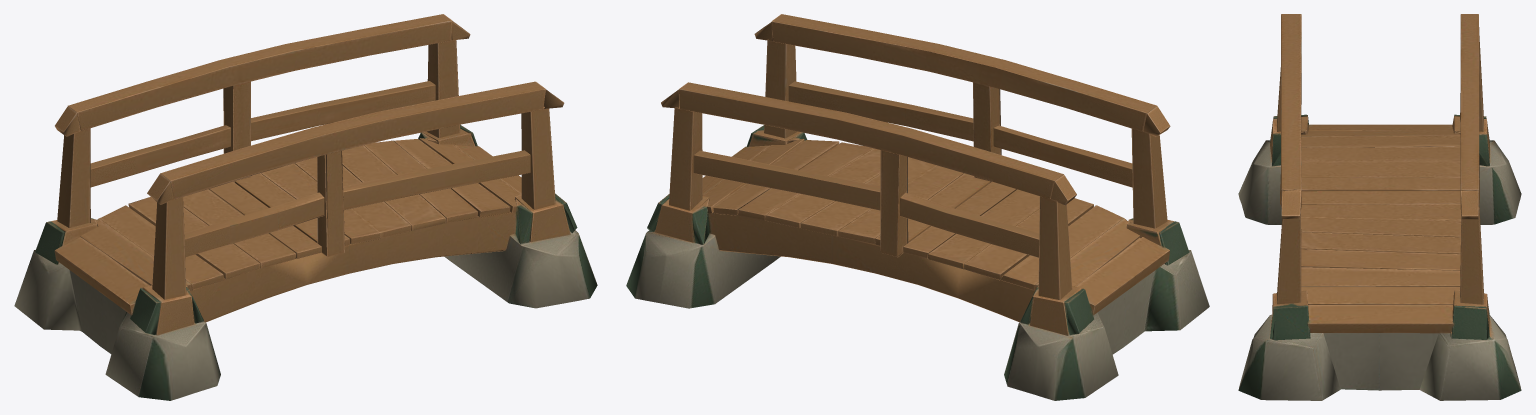
File: AW-VAR-PROP-003-v0.2.glb
3 views of the same model, side by side, from view 1: azimuth 30°, elevation 25°; view 2: azimuth 150°, elevation 25°; view 3: azimuth 270°, elevation 25° (orthographic). The views are drawn at different scales.
Visible parts, largest first — view 1: AW-VAR-PROP-003_meter_ground_pivot; view 2: AW-VAR-PROP-003_meter_ground_pivot; view 3: AW-VAR-PROP-003_meter_ground_pivot.
Boxes of the visible parts, x1,y1,x2,y2 form: AW-VAR-PROP-003_meter_ground_pivot: (14,14,597,400); AW-VAR-PROP-003_meter_ground_pivot: (626,14,1209,400); AW-VAR-PROP-003_meter_ground_pivot: (1238,14,1521,400).
Bounding box in the file's own units: 2.8 × 1.2 × 1.54.
Materials: 1 (1 with a texture image).
